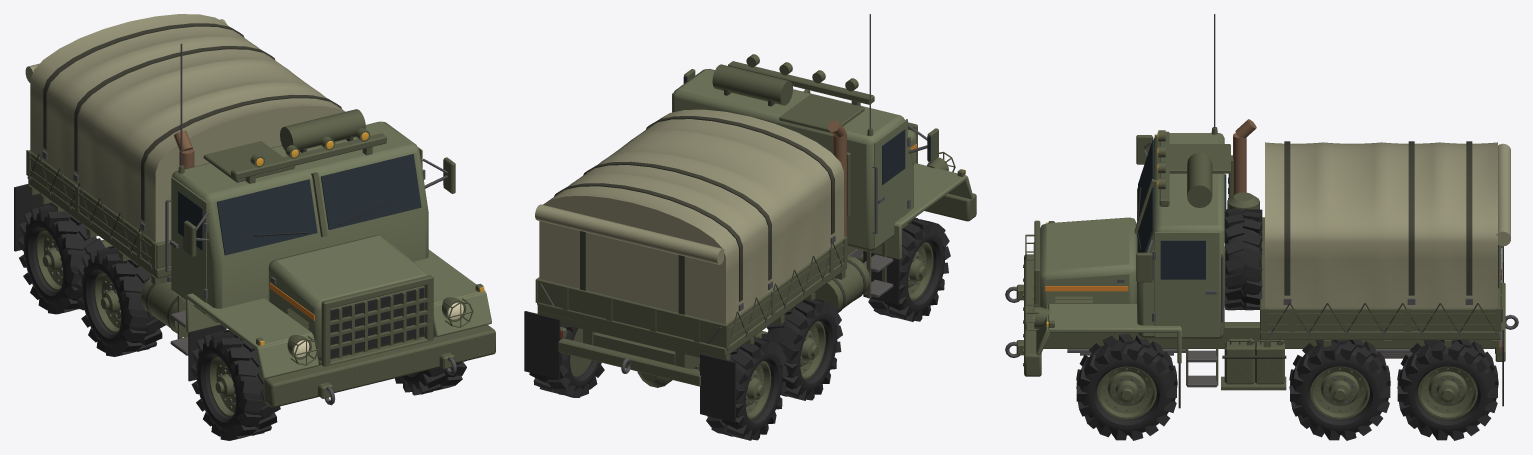
File: Enemy_Truck.fbx
3 views of the same model, side by side, from view 1: azimuth 30°, elevation 25°; view 2: azimuth 150°, elevation 25°; view 3: azimuth 270°, elevation 25° (orthographic). The views are drawn at different scales.
Parts seen in each view (by area): view 1: Enemy_Truck_Mesh; view 2: Enemy_Truck_Mesh; view 3: Enemy_Truck_Mesh.
Part boxes in pixels (x1,y1,x2,y2): Enemy_Truck_Mesh: (14,14,495,440); Enemy_Truck_Mesh: (524,14,976,440); Enemy_Truck_Mesh: (1005,14,1518,440).
Size of the model in its own units: 2.26 by 2.91 by 4.1.
